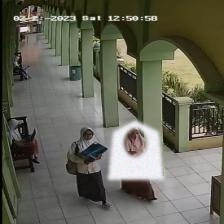Mukena: (108, 120, 164, 179)
